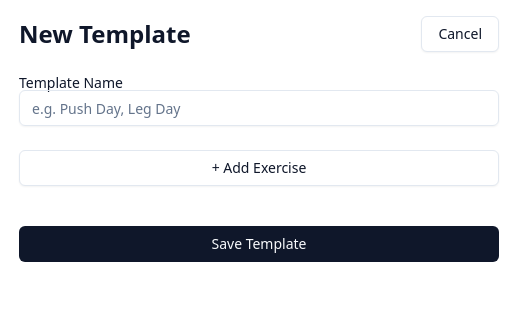
Test case: TemplateBuilder › shows validation error when saving without a name
Check: the field labelled "Template Name" is shown, box x1=19 y1=90 x2=499 y2=126
Click the button "Save Template" at point(259, 244), box x1=19 y1=226 x2=499 y2=262
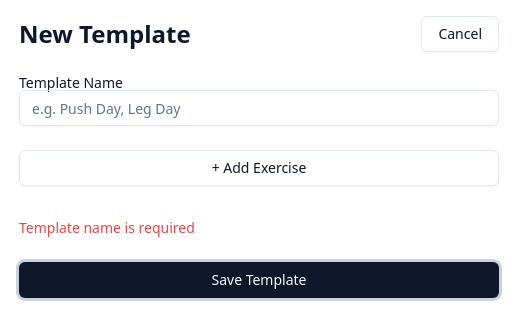
Check: the text "Template name is required" is shown, box x1=19 y1=218 x2=195 y2=237
